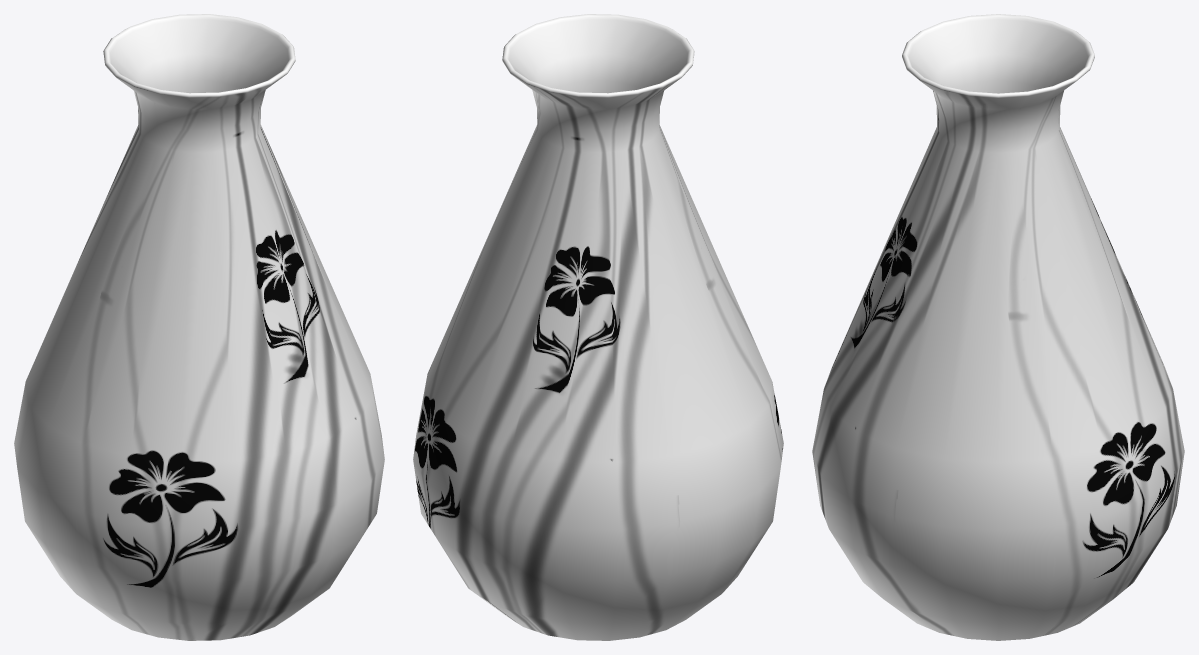
The model's file is Vase01_3.FBX.
3 renders of one model, left to right at view 1: azimuth 30°, elevation 25°; view 2: azimuth 150°, elevation 25°; view 3: azimuth 270°, elevation 25°, orthographic.
Parts seen in each view (by area): view 1: Vase01_3; view 2: Vase01_3; view 3: Vase01_3.
Part boxes in pixels (<box>): Vase01_3: <box>14,14,384,640</box>; Vase01_3: <box>413,14,783,640</box>; Vase01_3: <box>812,14,1184,640</box>.
Bounding box in the file's own units: 27.69 × 44.66 × 27.69.
